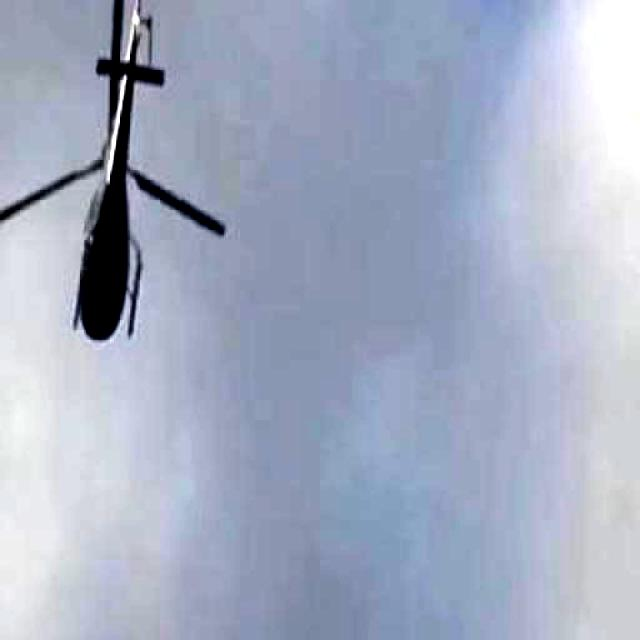drone: (0, 0, 236, 362)
